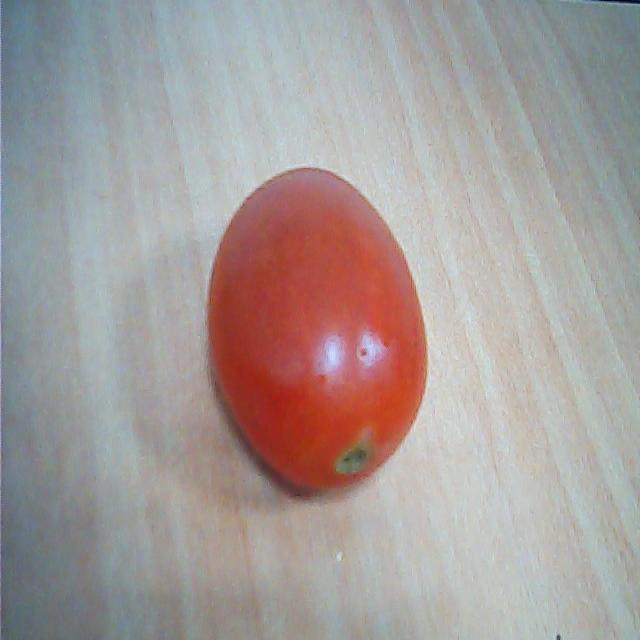maduro: (205, 162, 430, 512)
